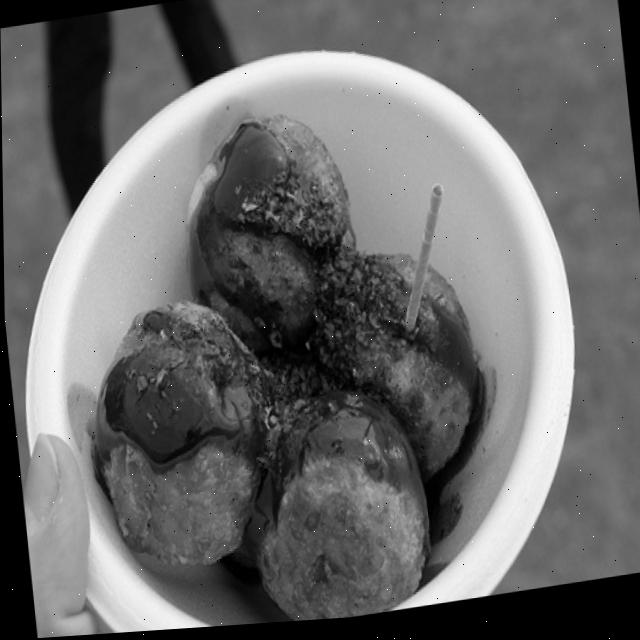炸货点心: (1, 14, 598, 640)
